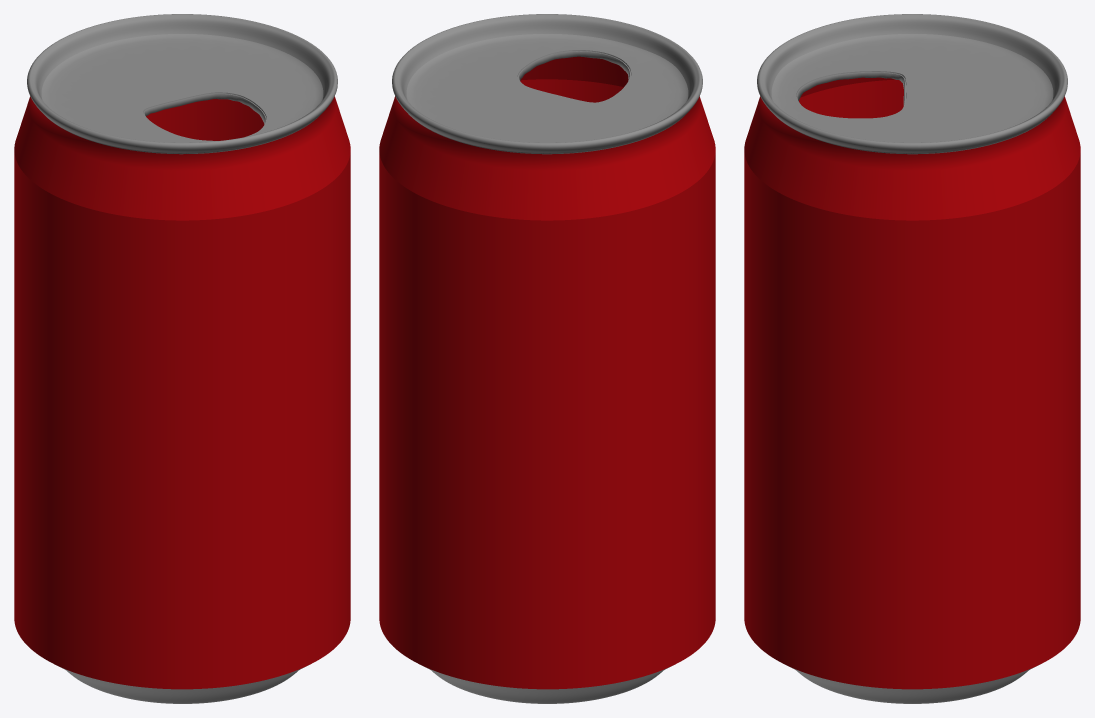
File: can.fbx
3 renders of one model, left to right at view 1: azimuth 30°, elevation 25°; view 2: azimuth 150°, elevation 25°; view 3: azimuth 270°, elevation 25°, orthographic.
Visible parts, largest first — view 1: can; view 2: can; view 3: can.
Boxes of the visible parts, box(x1,y1,x2,y2) form: can: box(14, 14, 350, 703); can: box(379, 14, 715, 703); can: box(744, 14, 1080, 703).
Size of the model in its own units: 199 by 374 by 199.
